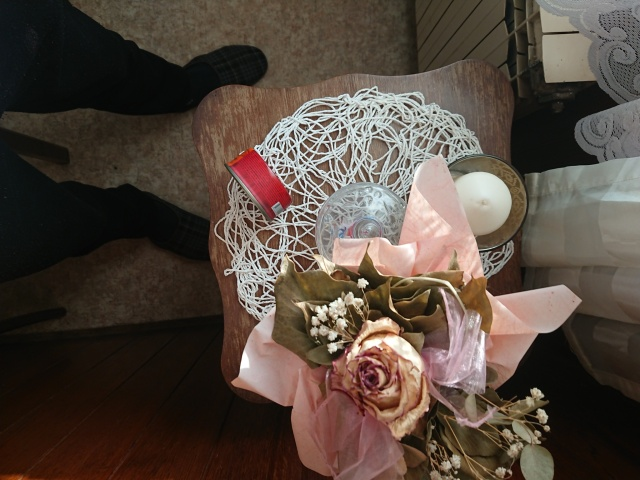Gavrilovic Pork Liver Pate 100g: (222, 145, 293, 223)
